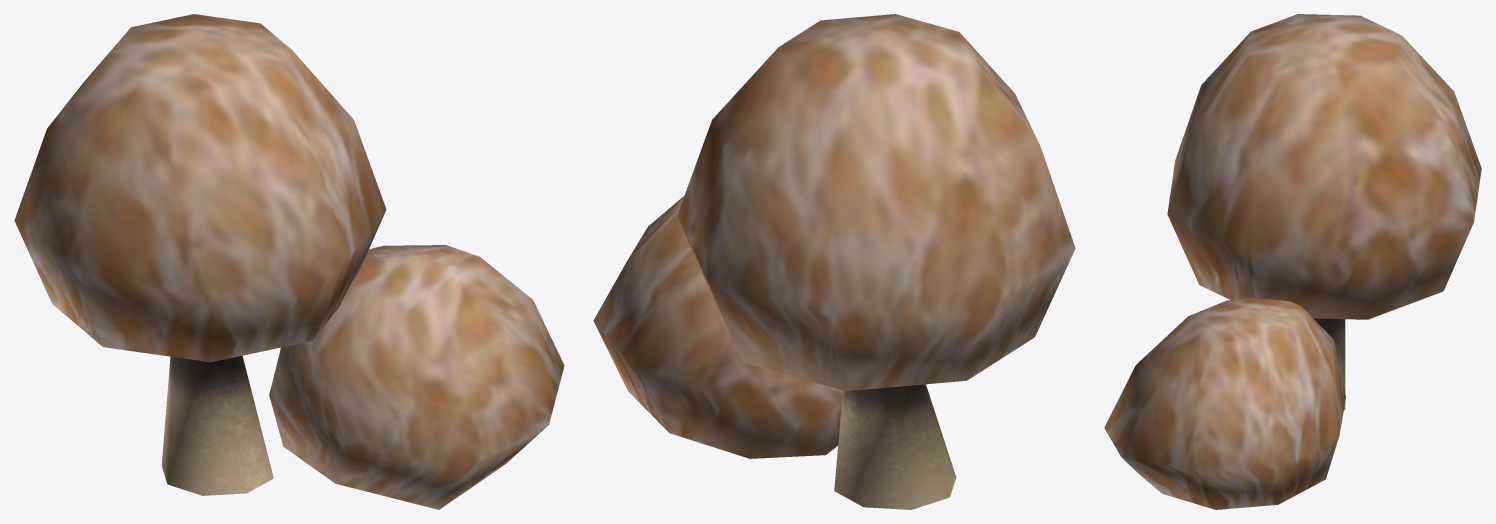
The model's file is mushroom 2.fbx.
3 views of the same model, side by side, from view 1: azimuth 30°, elevation 25°; view 2: azimuth 150°, elevation 25°; view 3: azimuth 270°, elevation 25° (orthographic). The views are drawn at different scales.
Visible parts, largest first — view 1: mushroom_2; view 2: mushroom_2; view 3: mushroom_2.
Part boxes in pixels (x1,y1,x2,y2): mushroom_2: [14, 14, 564, 509]; mushroom_2: [593, 14, 1075, 509]; mushroom_2: [1104, 14, 1481, 509].
Size of the model in its own units: 0.7855 by 0.7359 by 0.6457.
